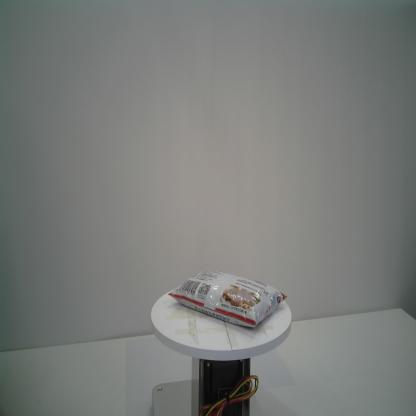Seasoner: (168, 269, 288, 328)
